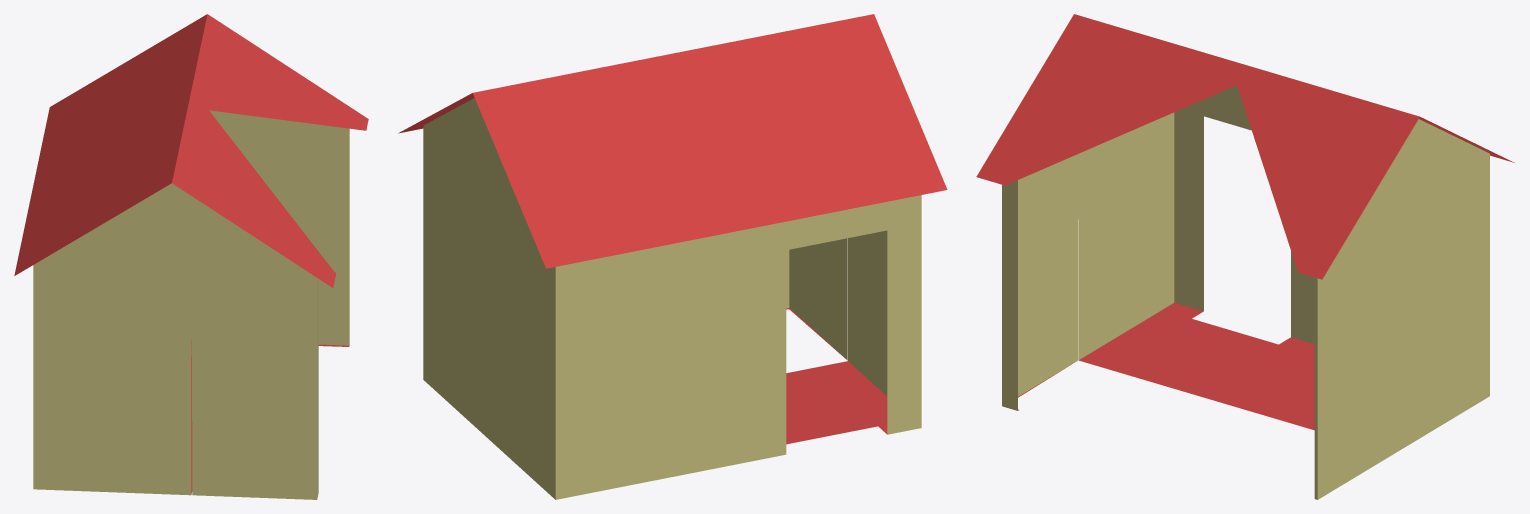
The picture shows the model from 3 angles, left to right: view 1: azimuth 30°, elevation 25°; view 2: azimuth 150°, elevation 25°; view 3: azimuth 270°, elevation 25°; orthographic projection. The views are drawn at different scales.
Size of the model in its own units: 13.96 by 14.53 by 9.97.
